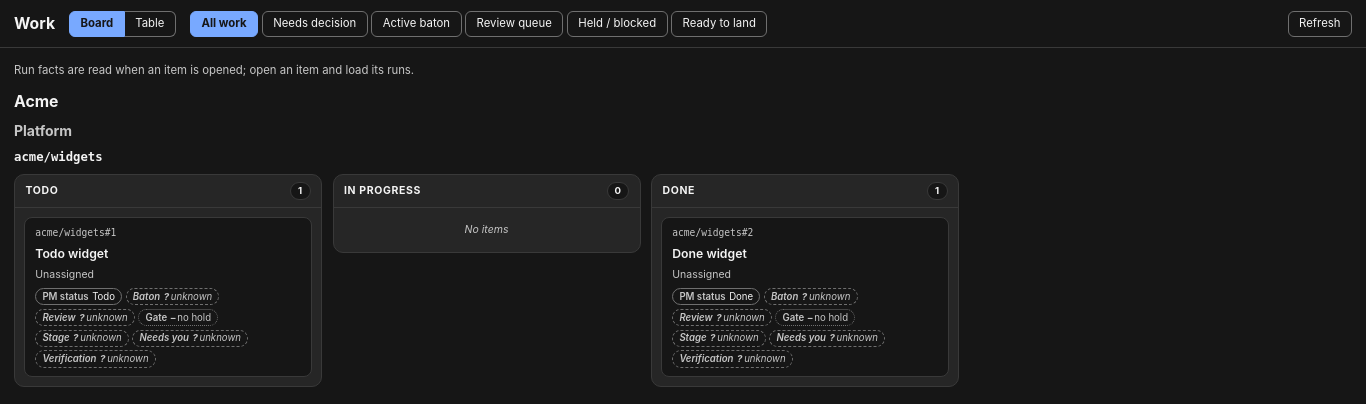
/work page › writes the view to the URL with a replacing navigation and follows it
Check: the element with test id "work-board" is shown, box 14,92 -> 959,387
Click the button with test id "view-table" at (150, 24), box 125,10 -> 176,37
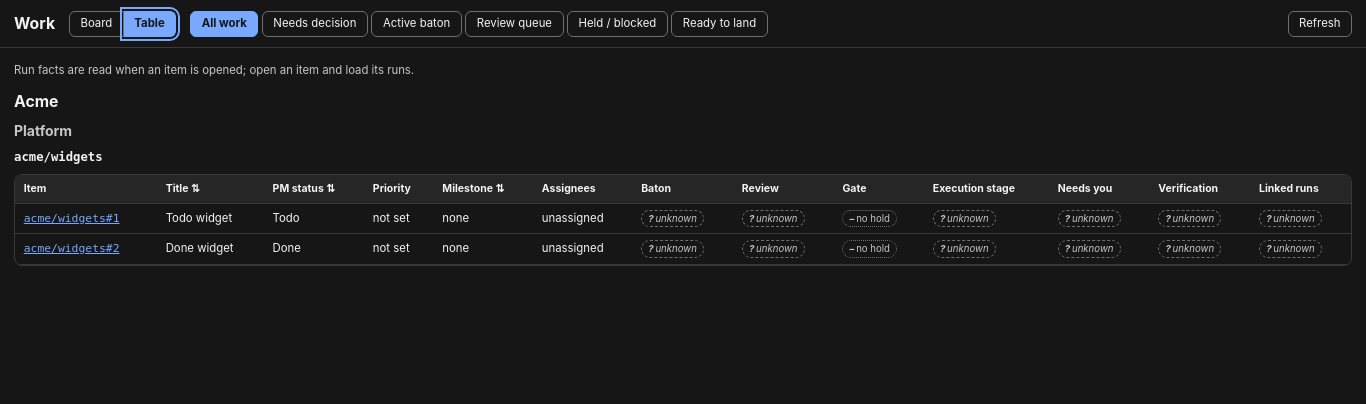
Check: the element with test id "work-table" is shown, box 14,90 -> 1352,280
Click the button with test id "view-board" at (96, 24), box 69,10 -> 124,37
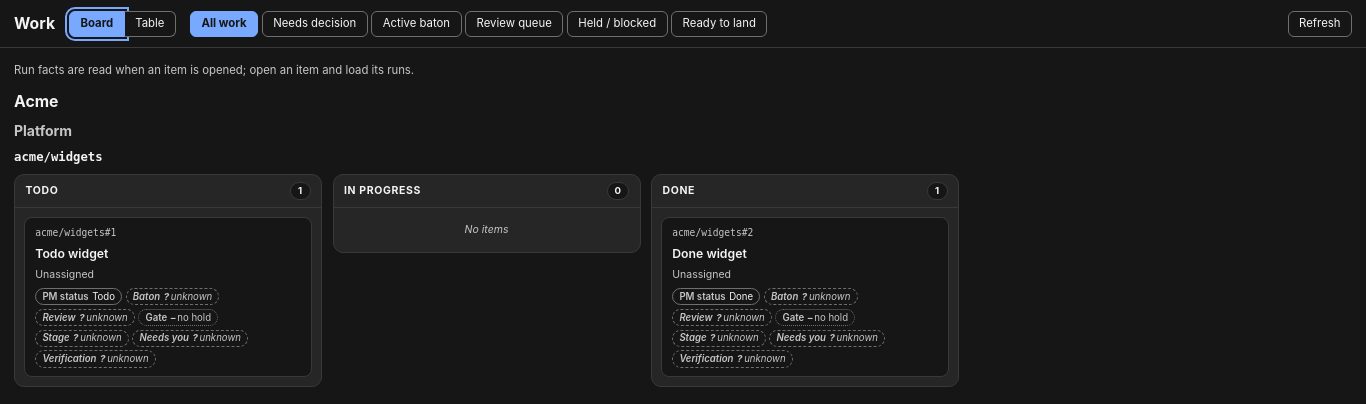
Check: the element with test id "work-board" is shown, box 14,92 -> 959,387
